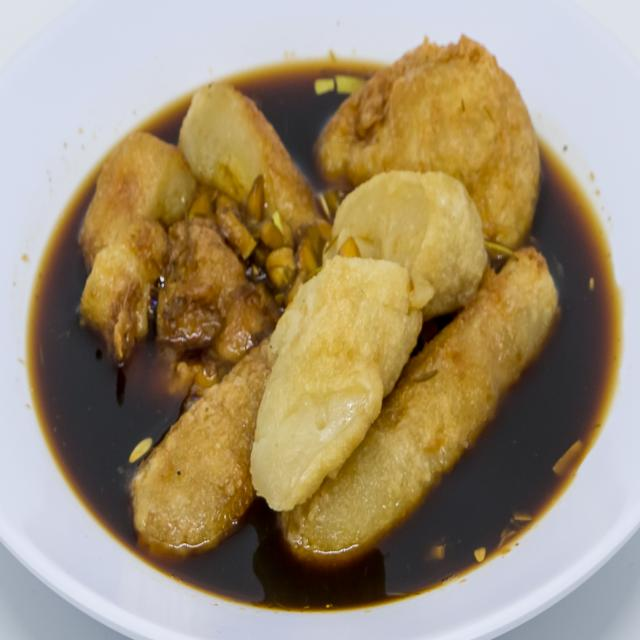Pempek-Palembang: (70, 17, 566, 572)
